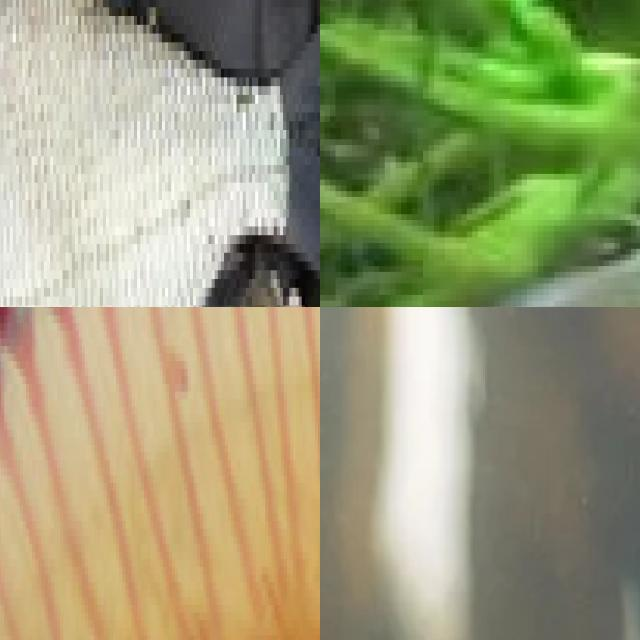fish: (0, 307, 320, 640), (320, 307, 640, 640), (0, 0, 320, 307), (434, 191, 640, 307)
